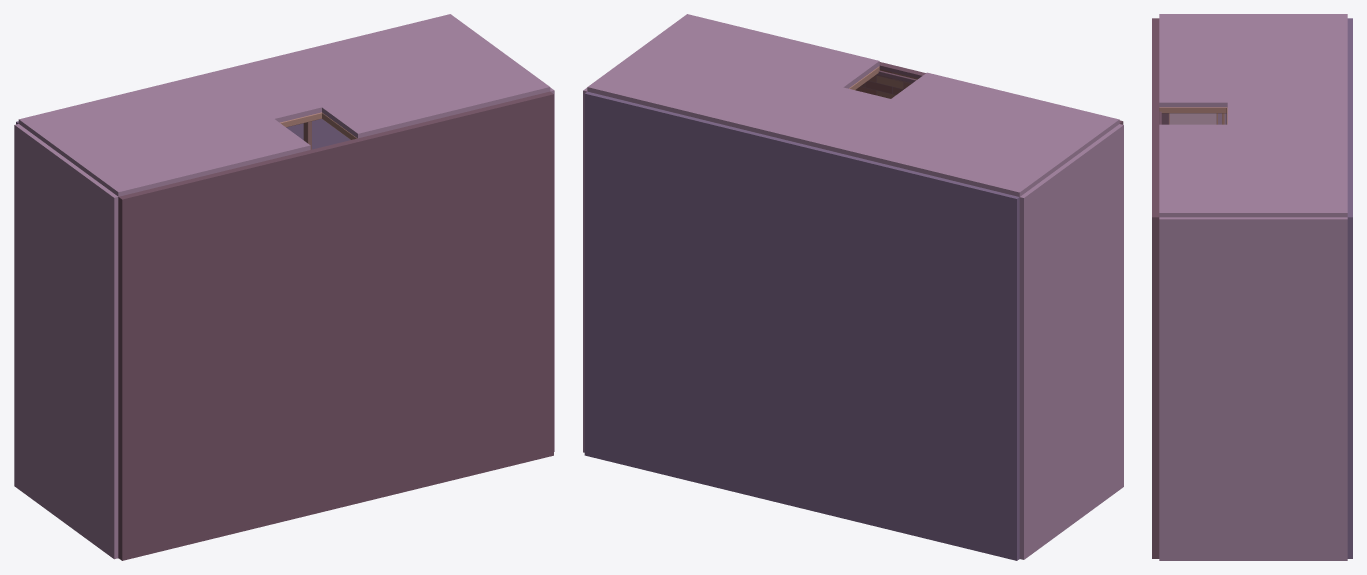
Rendered from moonroom-architecture-phase1.glb.
3 views of the same model, side by side, from view 1: azimuth 30°, elevation 25°; view 2: azimuth 150°, elevation 25°; view 3: azimuth 270°, elevation 25° (orthographic). The views are drawn at different scales.
Parts seen in each view (by area): view 1: ARCH_Floor_Substrate, ARCH_West_Wall, ARCH_Entry_Wall_West, ARCH_Entry_Wall_East, ARCH_Entry_Wall_Above_Door, ARCH_Ceiling_Slab; view 2: ARCH_Ceiling_Slab, ARCH_West_Wall, ARCH_Entry_Wall_West, ARCH_Entry_Wall_East, ARCH_Entry_Wall_Above_Door, ARCH_Oak_Plank_Field, ARCH_East_Wall; view 3: ARCH_East_Wall, ARCH_Entry_Wall_East, ARCH_Entry_Wall_West, ARCH_Floor_Substrate, ARCH_Ceiling_Slab, ARCH_Entry_Wall_Above_Door, ARCH_West_Panel_3.75, ARCH_Entry_Door_Jamb_West.
Part boxes in pixels (<box>): ARCH_Floor_Substrate: <box>118,91,553,560</box>; ARCH_West_Wall: <box>14,124,118,559</box>; ARCH_Entry_Wall_West: <box>18,72,310,196</box>; ARCH_Entry_Wall_East: <box>259,14,550,138</box>; ARCH_Entry_Wall_Above_Door: <box>211,61,321,122</box>; ARCH_Ceiling_Slab: <box>16,119,350,149</box>; ARCH_Ceiling_Slab: <box>584,91,1019,560</box>; ARCH_West_Wall: <box>1019,124,1123,559</box>; ARCH_Entry_Wall_West: <box>827,72,1119,196</box>; ARCH_Entry_Wall_East: <box>587,14,879,138</box>; ARCH_Entry_Wall_Above_Door: <box>779,87,890,149</box>; ARCH_Oak_Plank_Field: <box>855,69,918,98</box>; ARCH_East_Wall: <box>583,88,587,452</box>; ARCH_East_Wall: <box>1159,217,1347,560</box>; ARCH_Entry_Wall_East: <box>1159,124,1347,217</box>; ARCH_Entry_Wall_West: <box>1159,14,1347,107</box>; ARCH_Floor_Substrate: <box>1152,18,1159,558</box>; ARCH_Ceiling_Slab: <box>1347,18,1352,558</box>; ARCH_Entry_Wall_Above_Door: <box>1227,102,1347,124</box>; ARCH_West_Panel_3.75: <box>1169,113,1216,124</box>; ARCH_Entry_Door_Jamb_West: <box>1159,107,1226,113</box>.
Bounding box in the file's own units: 20.4 × 16.23 × 8.52.
